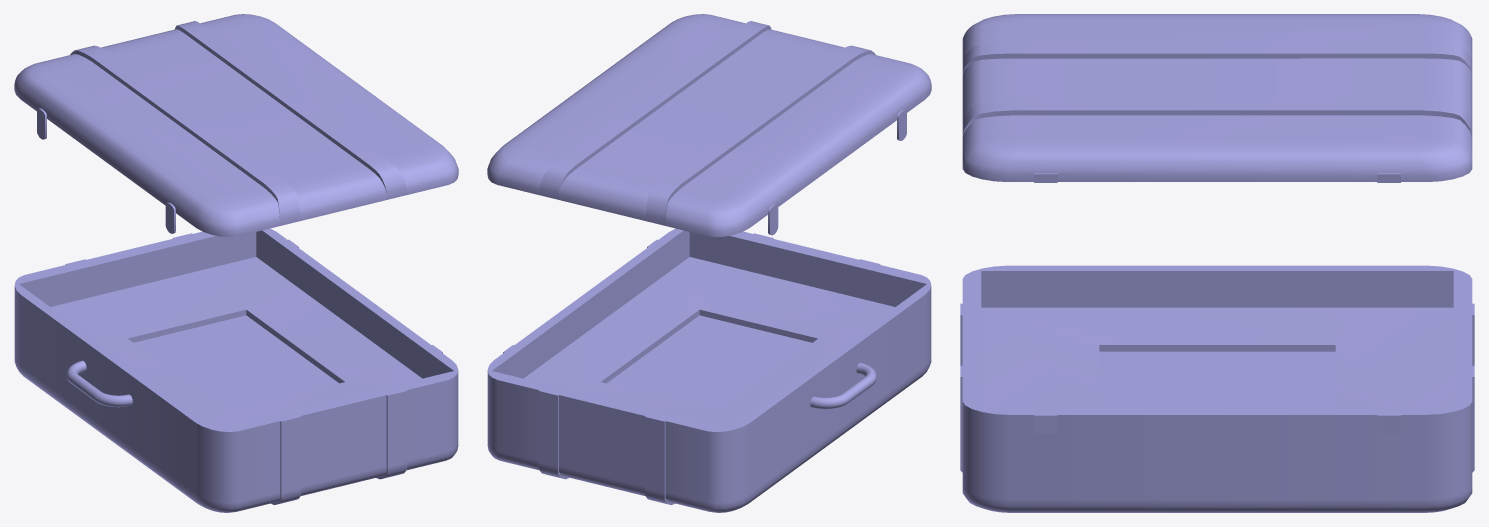
File: Suitcase.fbx
3 views of the same model, side by side, from view 1: azimuth 30°, elevation 25°; view 2: azimuth 150°, elevation 25°; view 3: azimuth 270°, elevation 25° (orthographic). The views are drawn at different scales.
Visible parts, largest first — view 1: Suitcase; view 2: Suitcase; view 3: Suitcase.
Part boxes in pixels (x1,y1,x2,y2): Suitcase: (14, 14, 458, 512); Suitcase: (487, 14, 931, 512); Suitcase: (960, 14, 1474, 512).
Bounding box in the file's own units: 459 × 483 × 605.
